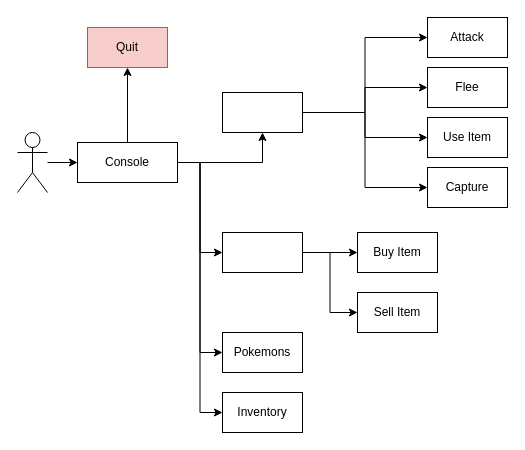
This 525x450 diagram has some shape labels left out. Each missing label, with the box of its shape:
Actor: (16, 132, 48, 192)
Battle: (222, 92, 302, 132)
Shop: (222, 232, 302, 272)
